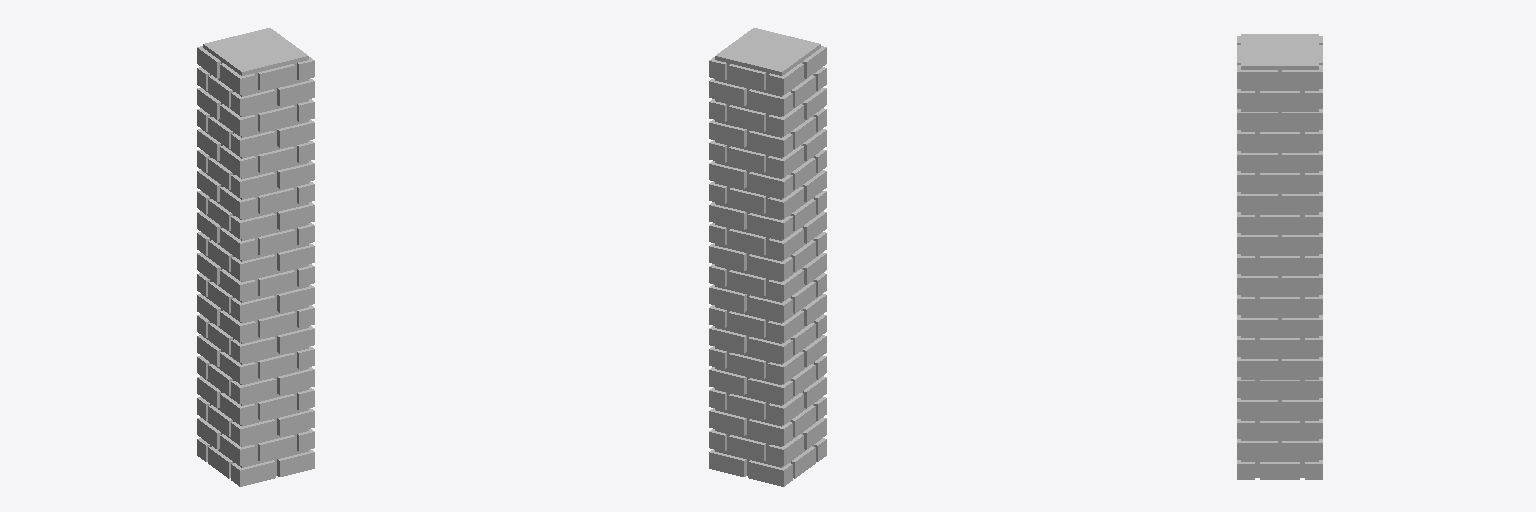
Rendered from Brick Pillar.obj.
3 views of the same model, side by side, from view 1: azimuth 30°, elevation 25°; view 2: azimuth 150°, elevation 25°; view 3: azimuth 270°, elevation 25° (orthographic).
Parts seen in each view (by area): view 1: object 1; view 2: object 1; view 3: object 1.
Part boxes in pixels (left/top/right/bottom): object 1: left=197, top=28, right=314, bottom=486; object 1: left=709, top=28, right=826, bottom=486; object 1: left=1237, top=34, right=1322, bottom=479.
Bounding box in the file's own units: 1.9 × 10 × 1.9.